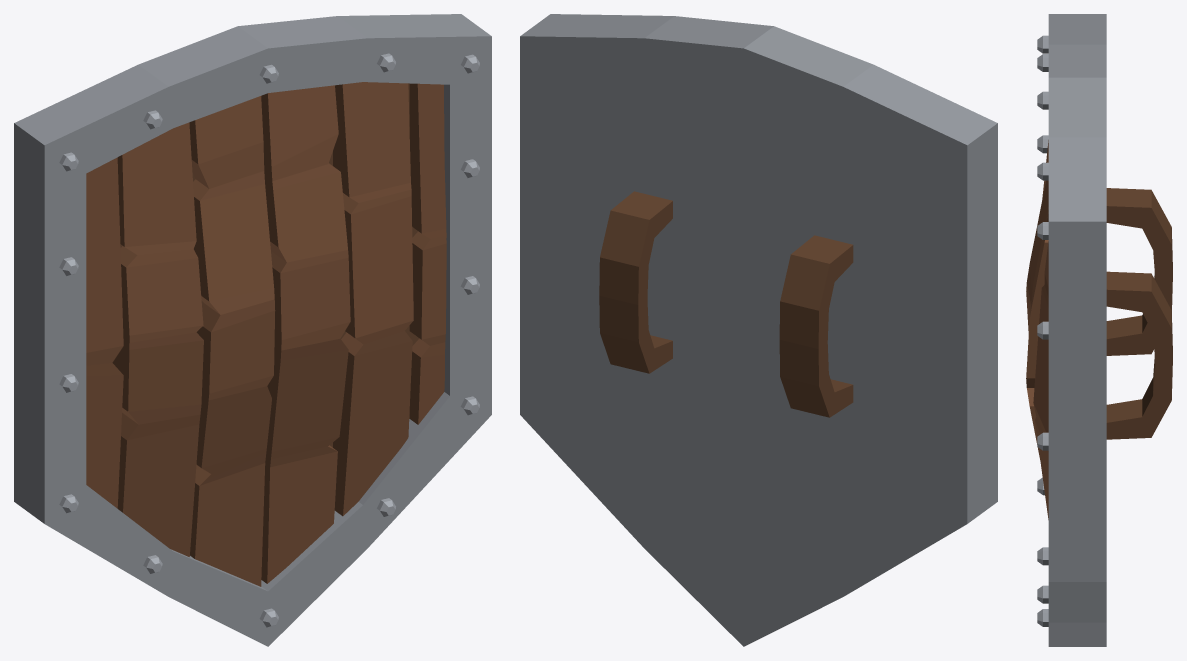
Rendered from Shield_Heater_2.glb.
3 renders of one model, left to right at view 1: azimuth 30°, elevation 25°; view 2: azimuth 150°, elevation 25°; view 3: azimuth 270°, elevation 25°, orthographic. The views are drawn at different scales.
Parts seen in each view (by area): view 1: LightWood, Steel, LightSteel; view 2: Steel, DarkWood; view 3: Steel, DarkWood, LightWood, LightSteel.
Boxes of the visible parts, x1,y1,x2,y2 form: LightWood: (86,82,446,586); Steel: (14,14,491,646); LightSteel: (59,53,479,627); Steel: (520,14,997,646); DarkWood: (599,191,853,417); Steel: (1048,14,1106,646); DarkWood: (1106,188,1172,439); LightWood: (1026,140,1048,519); LightSteel: (1037,35,1048,626).
Bounding box in the file's own units: 2.01 × 2.56 × 0.5987.
